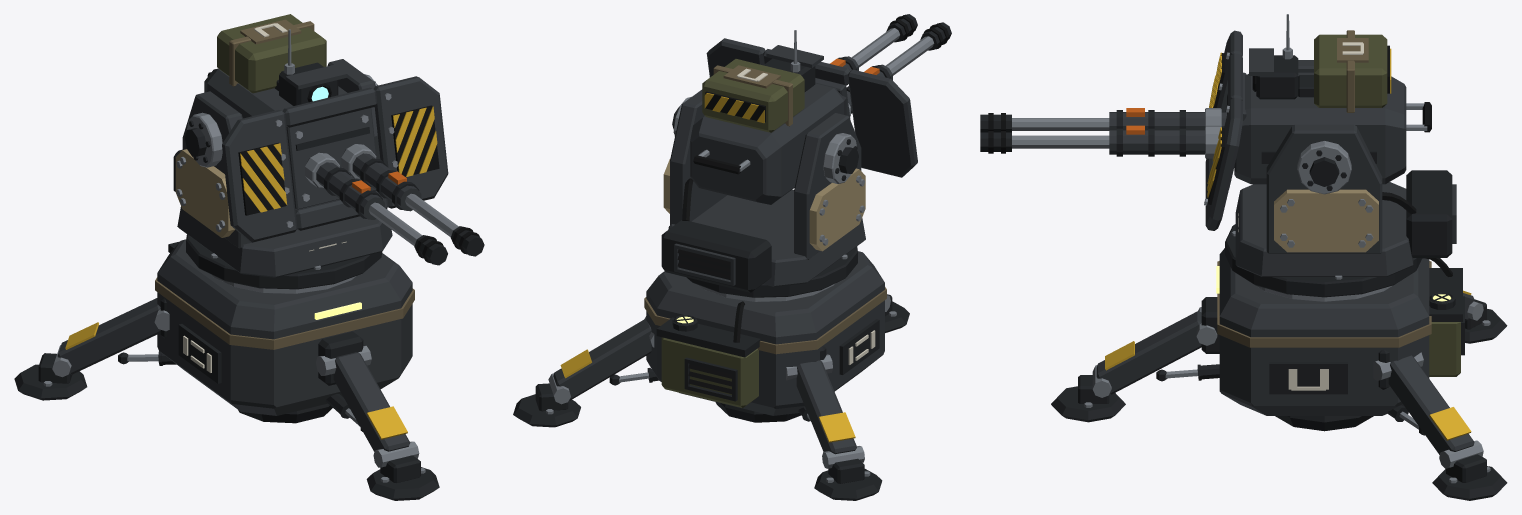
File: sentry_turret.fbx
The picture shows the model from 3 angles, left to right: view 1: azimuth 30°, elevation 25°; view 2: azimuth 150°, elevation 25°; view 3: azimuth 270°, elevation 25°; orthographic projection. The views are drawn at different scales.
Visible parts, largest first — view 1: Base, Gun, Yaw, Barrel_R, Barrel_L; view 2: Base, Yaw, Gun, Barrel_R, Barrel_L; view 3: Base, Yaw, Gun, Barrel_L, Barrel_R.
Boxes of the visible parts, x1=… form: Base: x1=14, y1=239, x2=439, y2=500; Gun: x1=204, y1=14, x2=448, y2=242; Yaw: x1=173, y1=59, x2=392, y2=289; Barrel_R: x1=307, y1=154, x2=447, y2=265; Barrel_L: x1=343, y1=145, x2=484, y2=256; Base: x1=513, y1=251, x2=909, y2=500; Yaw: x1=661, y1=89, x2=865, y2=297; Gun: x1=690, y1=30, x2=917, y2=204; Barrel_R: x1=846, y1=22, x2=951, y2=113; Barrel_L: x1=830, y1=14, x2=917, y2=70; Base: x1=1051, y1=248, x2=1507, y2=500; Yaw: x1=1225, y1=60, x2=1456, y2=297; Gun: x1=1204, y1=14, x2=1431, y2=230; Barrel_L: x1=980, y1=125, x2=1204, y2=156; Barrel_R: x1=980, y1=108, x2=1226, y2=132.
Bounding box in the file's own units: 427 × 408 × 503.
7 materials, 5 textured.
